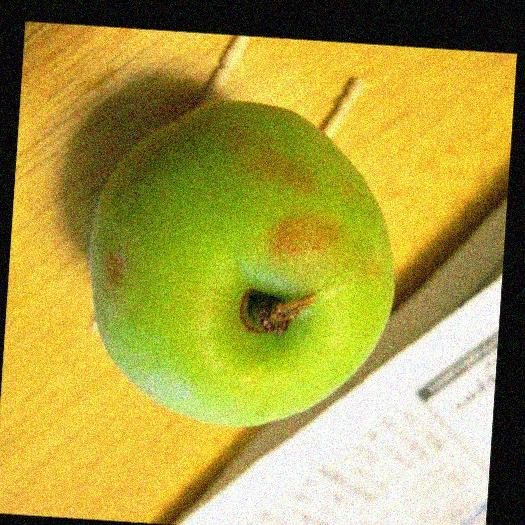green apple: (79, 96, 403, 429)
